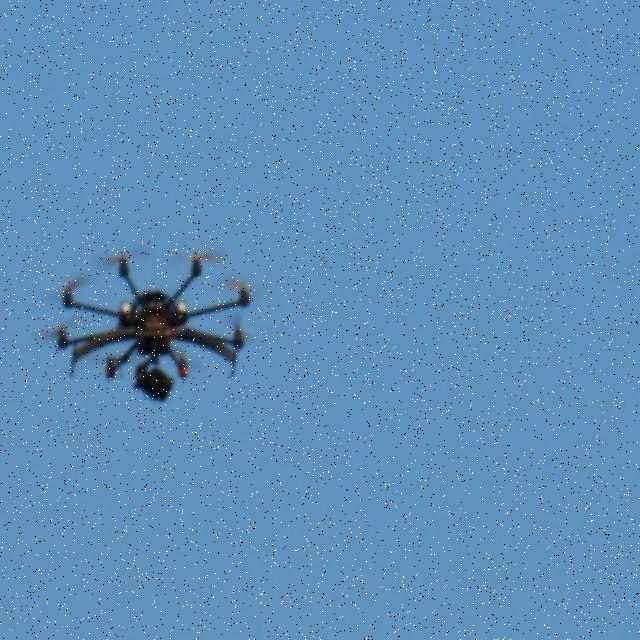UAV: (56, 250, 252, 406)
